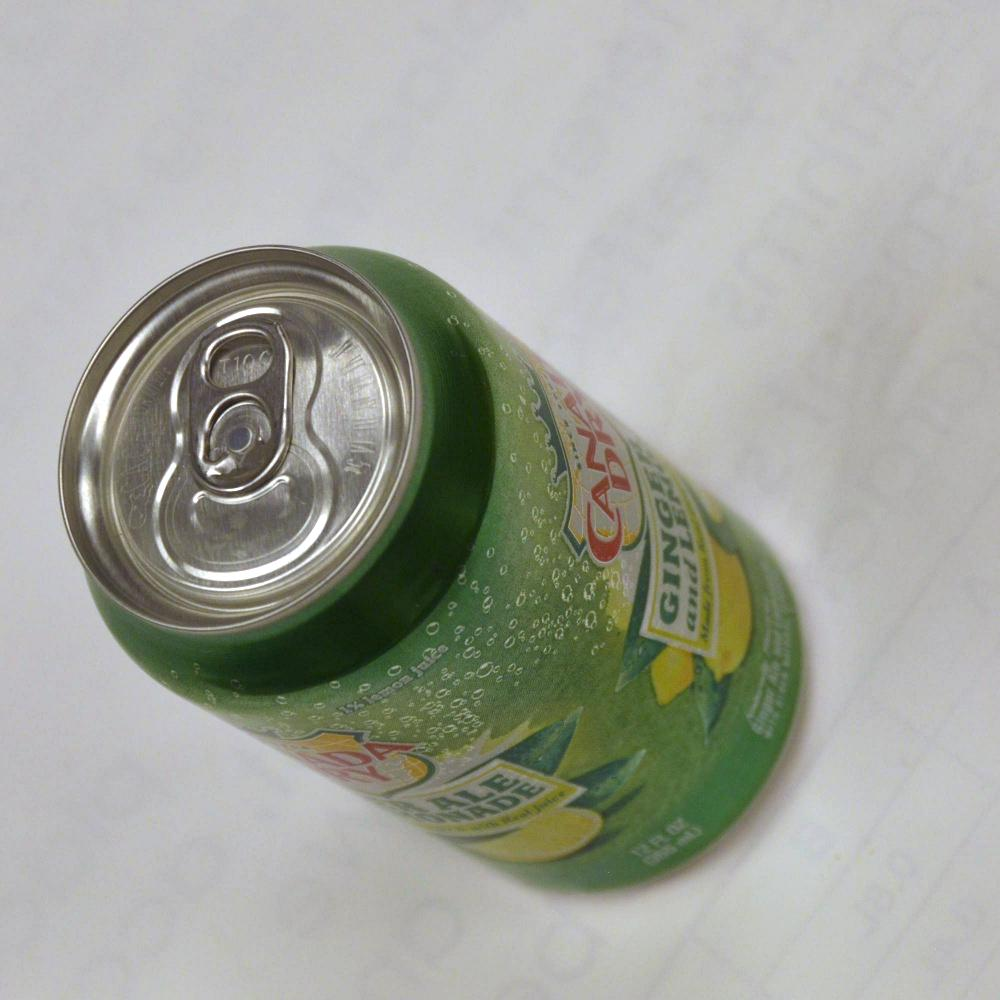Metal: (68, 197, 823, 925)
